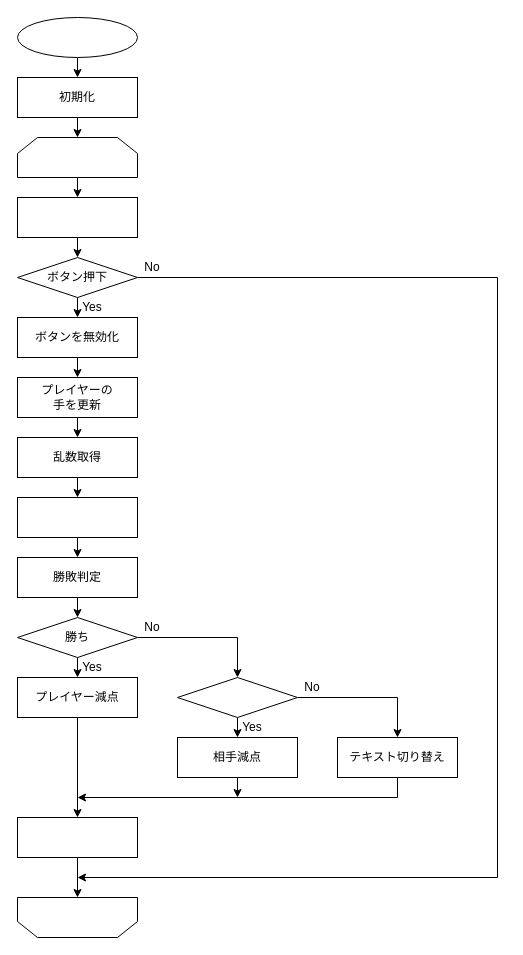
Some shapes in this 523 by 955 pixel diagram are drawn without their labels. The box of each missing label's shape, as (x1, y1, x2, y2) in pixels:
数秒停止: (16, 816, 138, 858)
相手の手を切り替え: (16, 196, 138, 238)
相手の手を設定: (16, 496, 138, 538)
負け: (176, 676, 298, 718)
開始: (16, 16, 138, 58)
